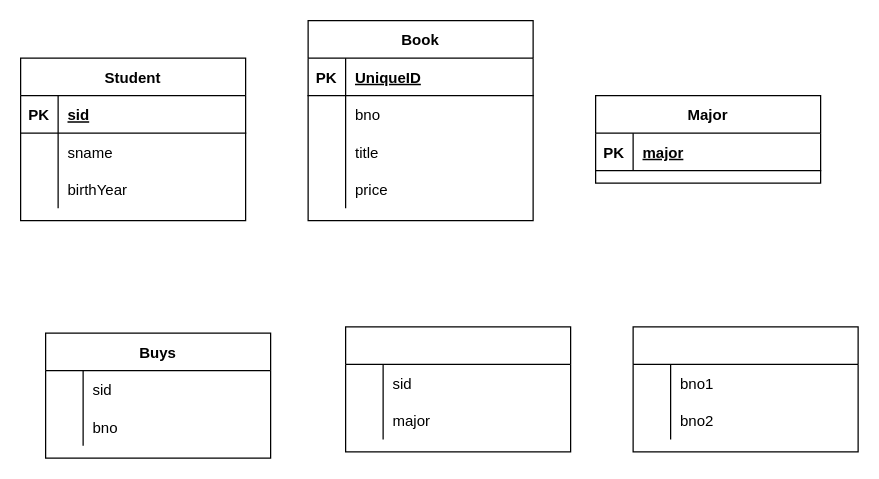
Some shapes in this 879 by 479 pixel diagram are drawn without their labels. The box of each missing label's shape, as (x1, y1, x2, y2) in pixels:
Cities: (632, 326, 858, 452)
hasMajor: (344, 326, 571, 452)
